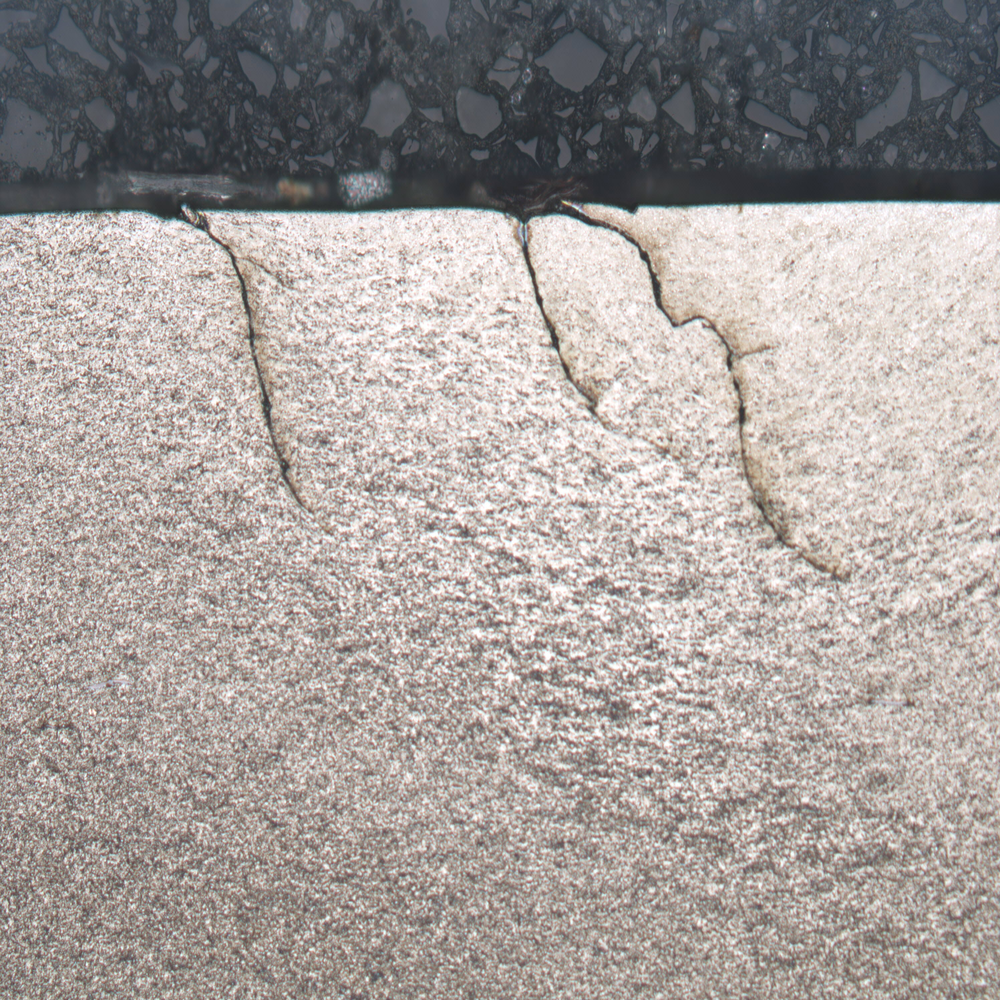crack: (499, 193, 859, 601), (144, 193, 326, 529)
